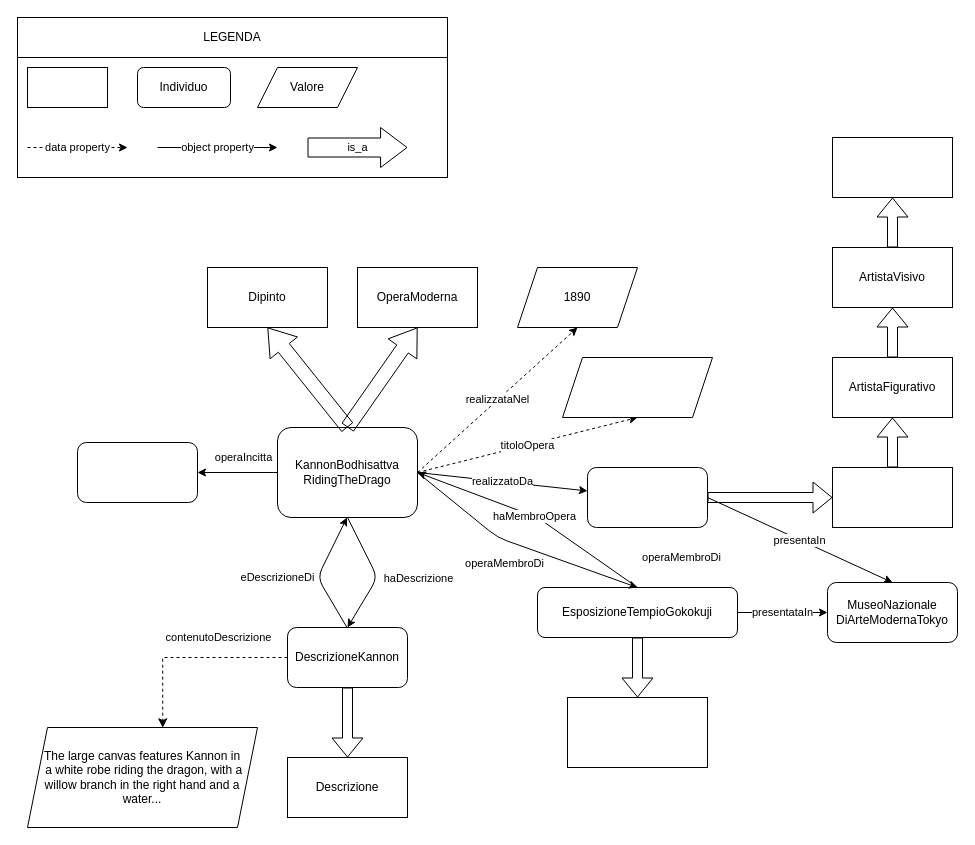
Image size: 975x845. Some labels were removed from this diagram. The shapes that lost their labels are listed below. From the top down, each one's centre as x and y in pixels, then its label:
At pixel 67 87: "Classe".
At pixel 892 167: "Artista".
At pixel 637 387: "Kannon Bodhisattava Riding The Drago".
At pixel 137 472: "Tokyo".
At pixel 647 497: "HaradaNaojiro".
At pixel 892 497: "Pittore".
At pixel 637 732: "CollezioneArteOrientale".
